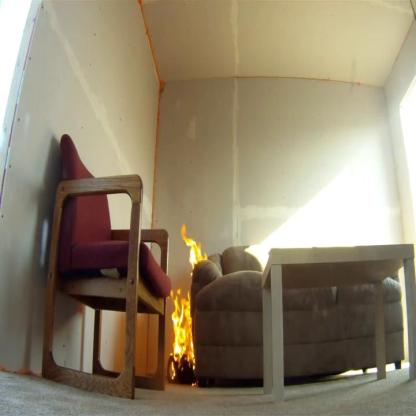fire: (169, 287, 196, 384), (178, 223, 209, 278)
